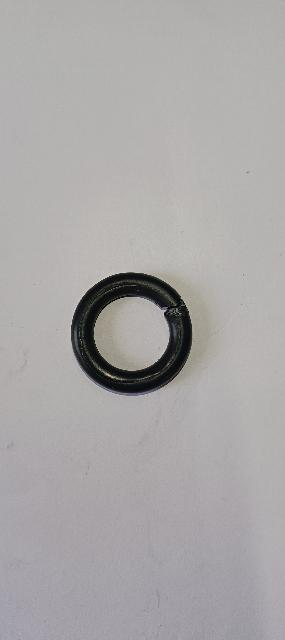crack: (158, 295, 198, 326)
scratch: (73, 280, 183, 386)
